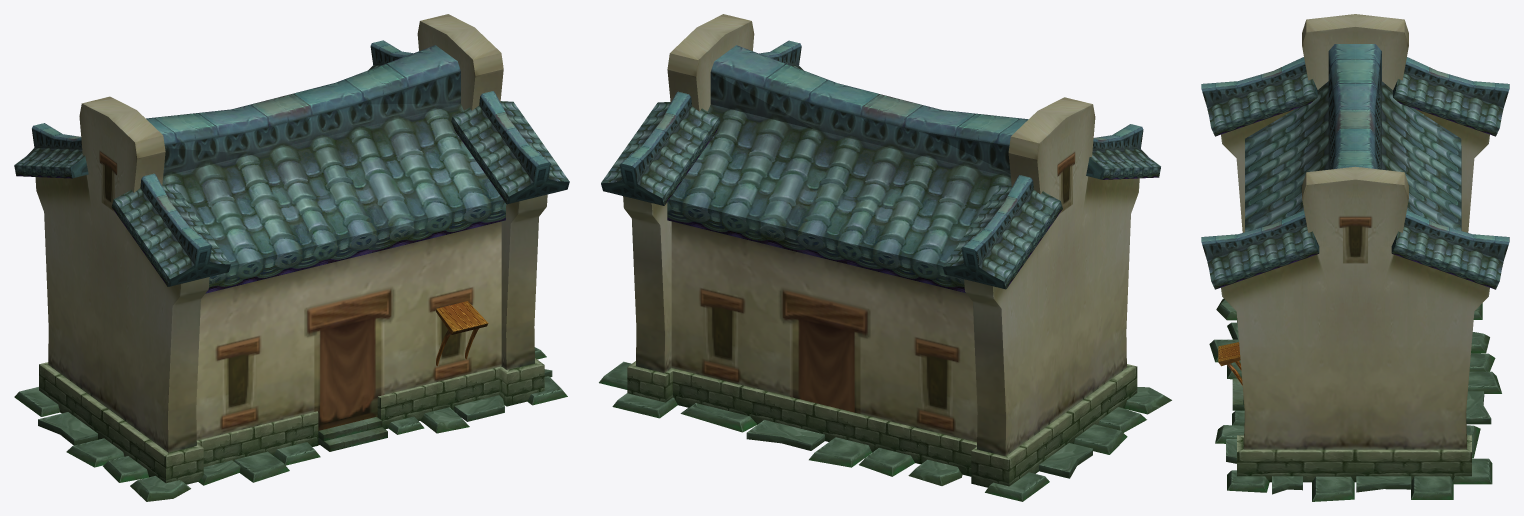
Rendered from putongminju.FBX.
3 renders of one model, left to right at view 1: azimuth 30°, elevation 25°; view 2: azimuth 150°, elevation 25°; view 3: azimuth 270°, elevation 25°, orthographic. The views are drawn at different scales.
Parts seen in each view (by area): view 1: putongminju; view 2: putongminju; view 3: putongminju.
Part boxes in pixels (x1,y1,x2,y2): putongminju: (14, 14, 569, 501); putongminju: (599, 14, 1171, 501); putongminju: (1201, 14, 1509, 501).
Size of the model in its own units: 618 by 421 by 389.
